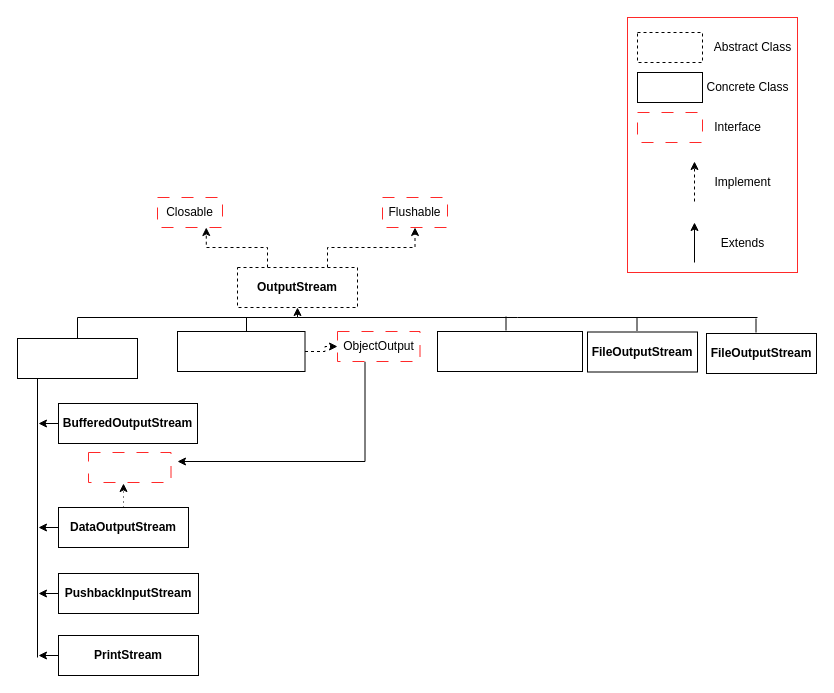
Image size: 834x693. Some labels were removed from this diagram. The shapes that lost their labels are listed below. From the top down, each one's centre as x and y in pixels, then its label:
At point (77, 358): "FilterOutputStream".
At point (240, 351): "ObjectOutputStream".
At point (509, 351): "ByteArrayOutputStream".
At point (129, 467): "DataOutput".
